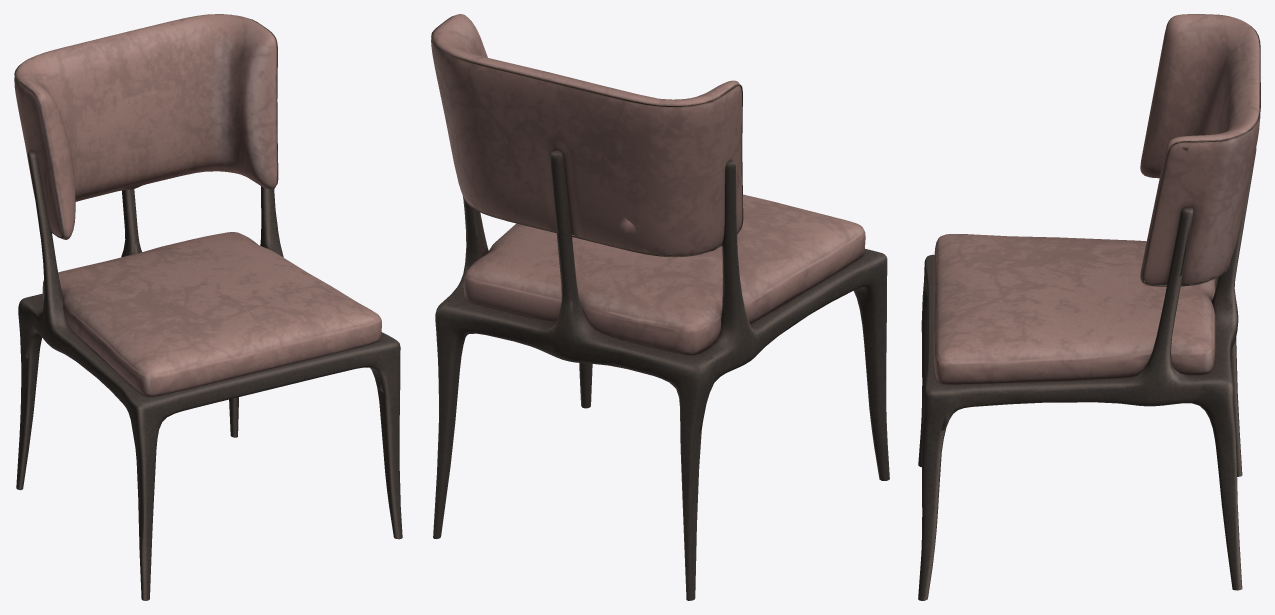
The model's file is raw_model.obj.
3 views of the same model, side by side, from view 1: azimuth 30°, elevation 25°; view 2: azimuth 150°, elevation 25°; view 3: azimuth 270°, elevation 25° (orthographic). The views are drawn at different scales.
Parts seen in each view (by area): view 1: solid_003, solid_002, solid_001; view 2: solid_003, solid_002, solid_001; view 3: solid_003, solid_002, solid_001.
Part boxes in pixels (x1,y1,x2,y2): solid_003: (14, 14, 381, 396); solid_002: (16, 150, 402, 600); solid_001: (14, 18, 278, 238); solid_003: (431, 14, 865, 354); solid_002: (433, 150, 889, 600); solid_001: (431, 15, 743, 256); solid_003: (933, 14, 1260, 384); solid_002: (918, 148, 1256, 600); solid_001: (1143, 15, 1260, 286).
Bounding box in the file's own units: 0.5588 × 0.8543 × 0.5799.
1 material, 1 textured.
